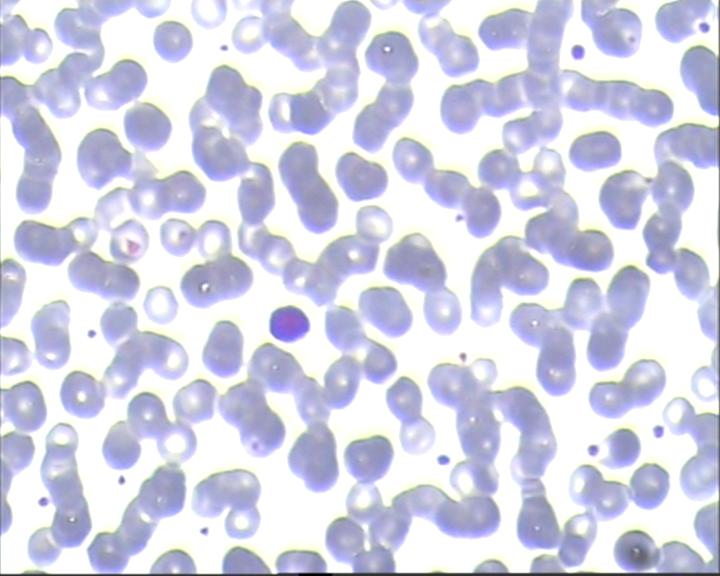lymp: (263, 303, 315, 347)
